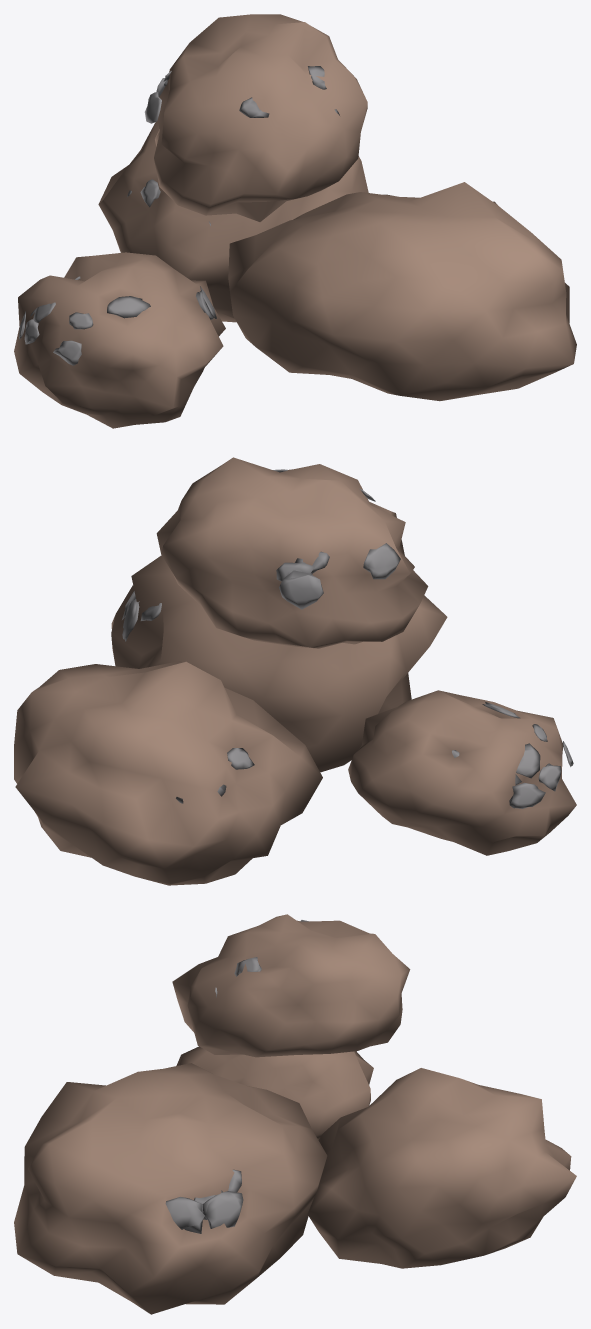
The model's file is metal-ore.glb.
3 renders of one model, top to bottom at view 1: azimuth 30°, elevation 25°; view 2: azimuth 150°, elevation 25°; view 3: azimuth 270°, elevation 25°, orthographic. The views are drawn at different scales.
Parts seen in each view (by area): view 1: Body_lod0; view 2: Body_lod0; view 3: Body_lod0.
Part boxes in pixels (bbox=[...]): Body_lod0: bbox=[14, 14, 576, 428]; Body_lod0: bbox=[14, 457, 576, 885]; Body_lod0: bbox=[14, 914, 576, 1314].
Size of what is drawn, in the model's own units: 0.2501 by 0.1621 by 0.2661.
